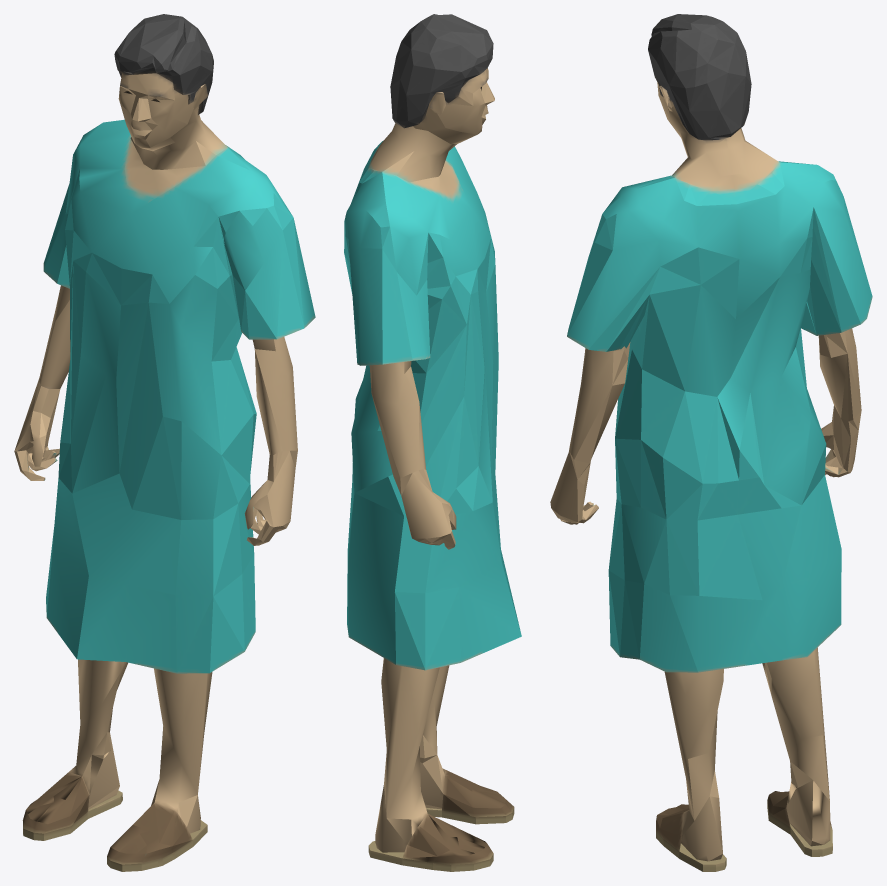
File: Patient Male.fbx
3 renders of one model, left to right at view 1: azimuth 30°, elevation 25°; view 2: azimuth 150°, elevation 25°; view 3: azimuth 270°, elevation 25°, orthographic. The views are drawn at different scales.
Parts seen in each view (by area): view 1: Patient_Male; view 2: Patient_Male; view 3: Patient_Male.
Boxes of the visible parts, x1,y1,x2,y2 form: Patient_Male: (14,14,315,871); Patient_Male: (344,14,521,871); Patient_Male: (550,14,872,871).
Size of the model in its own units: 0.4426 by 1.81 by 0.6362.
